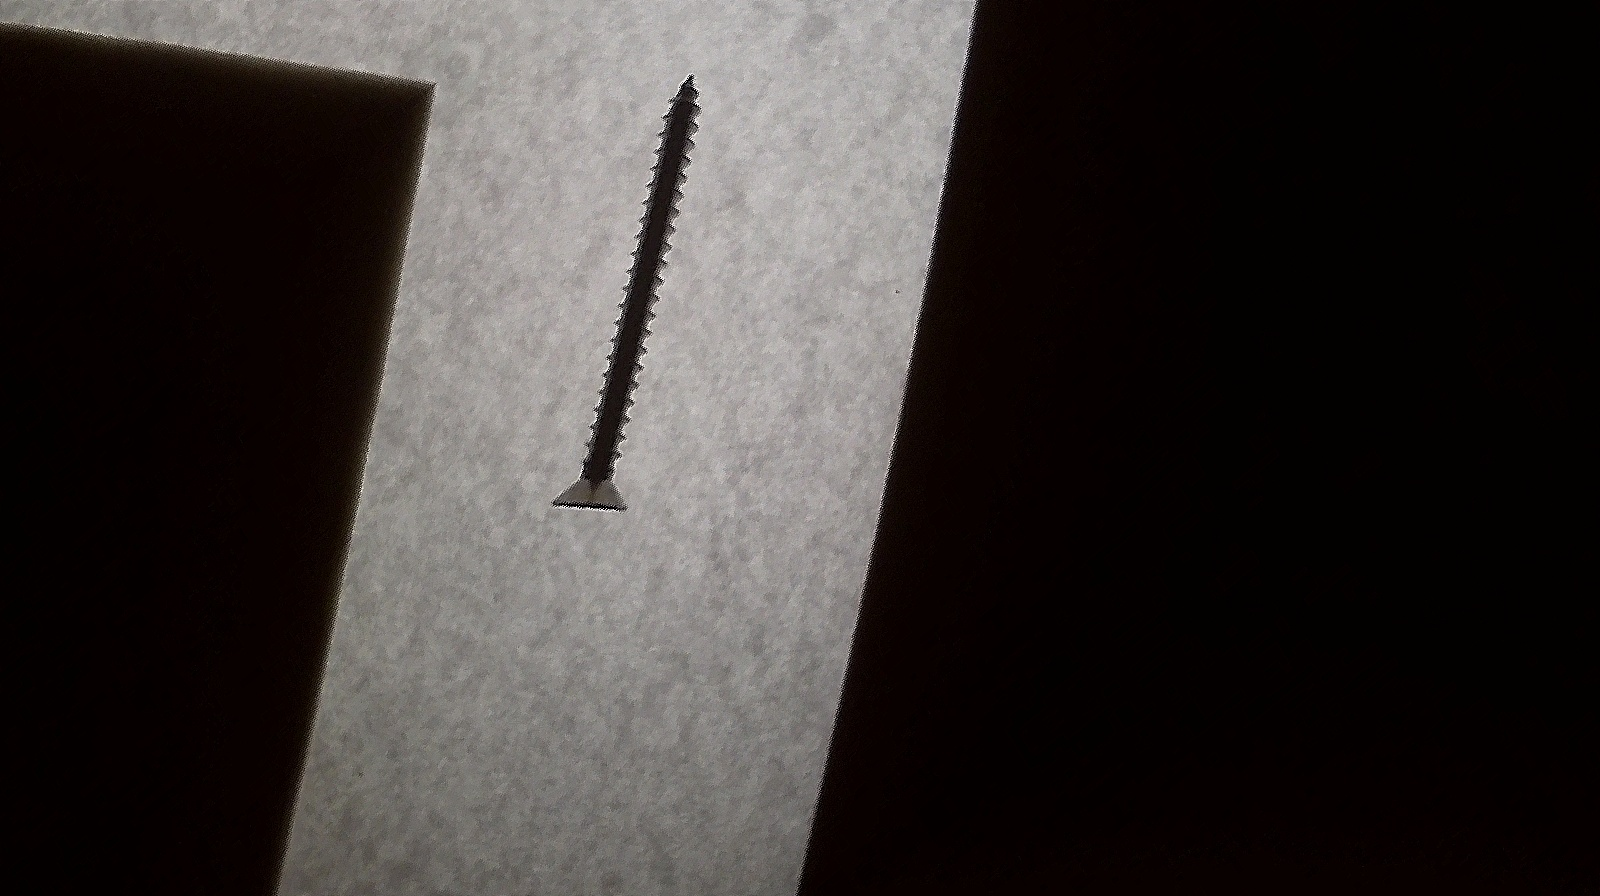S002: (387, 42, 868, 574)
